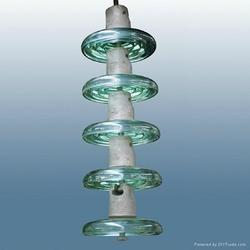isolator: (80, 26, 163, 237)
